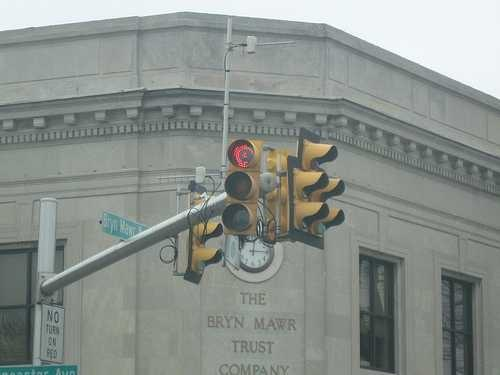red: (224, 138, 260, 237)
